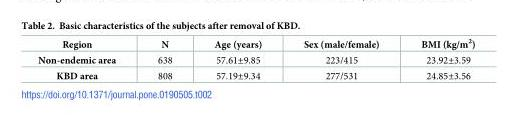table: (37, 37, 474, 81)
table column: (282, 37, 399, 81), (37, 37, 136, 81), (192, 37, 282, 81), (399, 37, 474, 81), (136, 37, 192, 81)
table column header: (37, 37, 474, 51)
table row: (37, 51, 474, 67), (37, 37, 474, 51), (37, 67, 474, 81)
